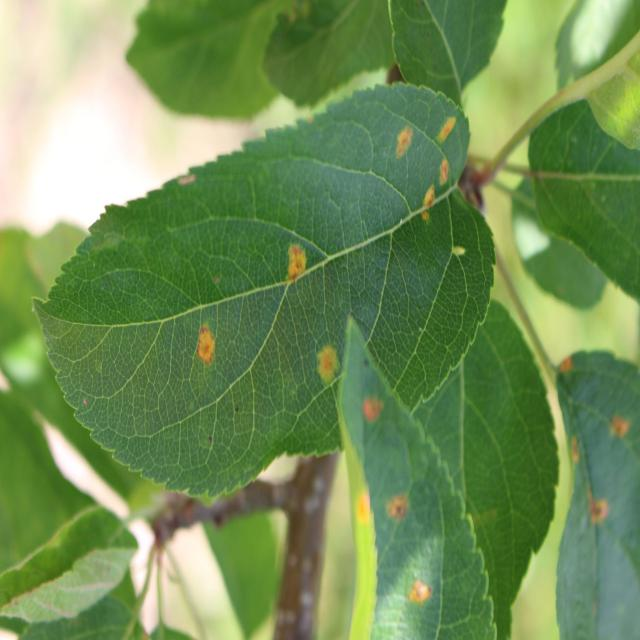Rust: (415, 175, 441, 234), (579, 488, 614, 531), (194, 322, 220, 374), (283, 241, 309, 290), (317, 339, 341, 386), (606, 414, 638, 446), (358, 392, 385, 428), (563, 434, 586, 476), (386, 491, 414, 524), (406, 575, 433, 609), (436, 112, 460, 148), (394, 125, 415, 165), (550, 351, 581, 376), (355, 491, 374, 530), (436, 157, 454, 190), (177, 170, 203, 192)
